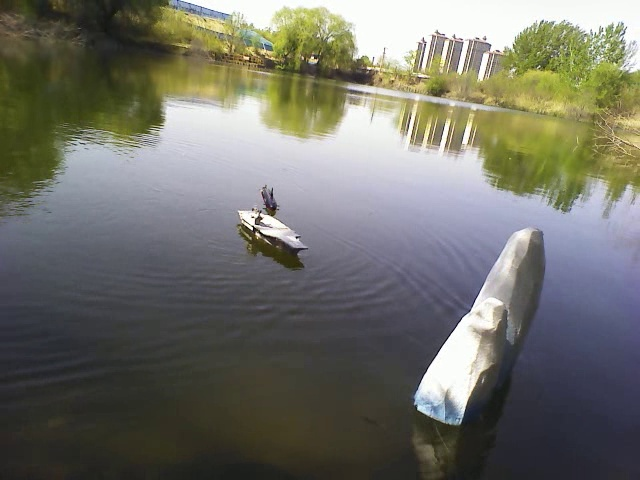aircraft_carrier: (237, 206, 310, 256)
iceberg: (411, 223, 551, 431)
submarine: (260, 184, 283, 210)
